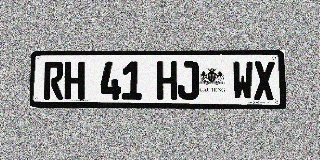1: (121, 61, 142, 100)
4: (101, 61, 121, 100)
H: (64, 61, 85, 100), (157, 61, 177, 100)
J: (178, 61, 198, 100)
R: (44, 61, 64, 100)
W: (232, 61, 253, 100)
X: (254, 61, 275, 100)
